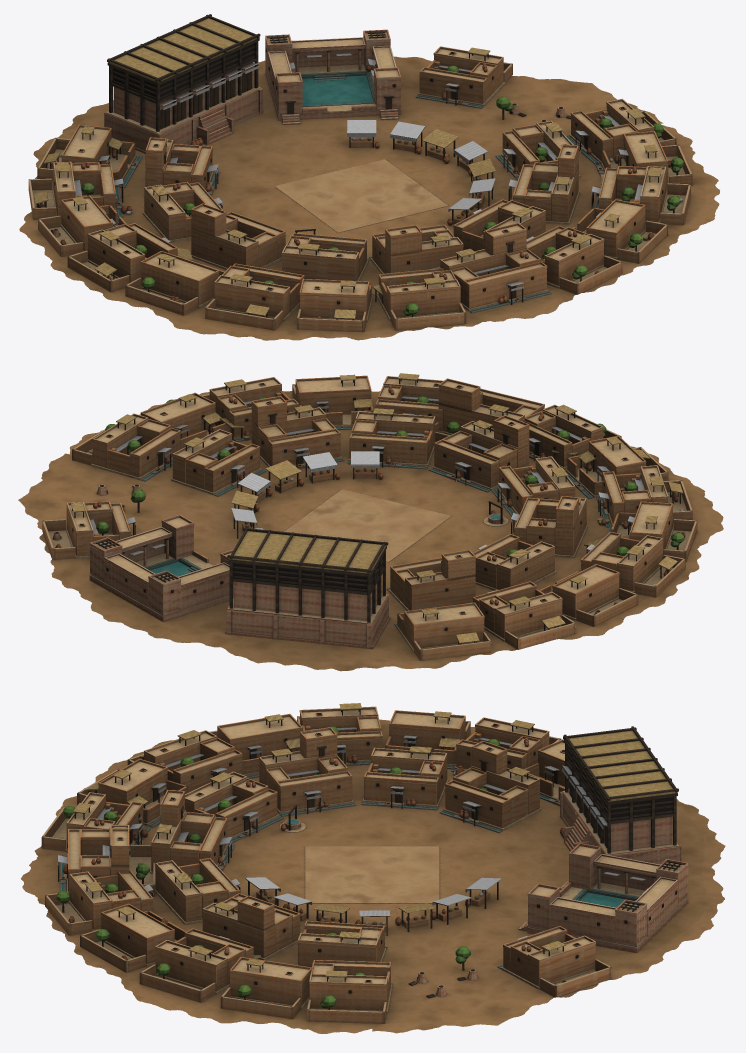
The model's file is bronze-town-big-b-indic.glb.
3 views of the same model, one above another, from view 1: azimuth 30°, elevation 25°; view 2: azimuth 150°, elevation 25°; view 3: azimuth 270°, elevation 25° (orthographic). The views are drawn at different scales.
Visible parts, largest first — view 1: LOD0; view 2: LOD0; view 3: LOD0.
Part boxes in pixels (x1,y1,x2,y2): LOD0: (19,14,719,340); LOD0: (18,373,723,671); LOD0: (21,703,725,1033).
Size of what is drawn, in the model's own units: 7.93 by 0.9704 by 7.49.
Materials: 3 (3 with a texture image).
